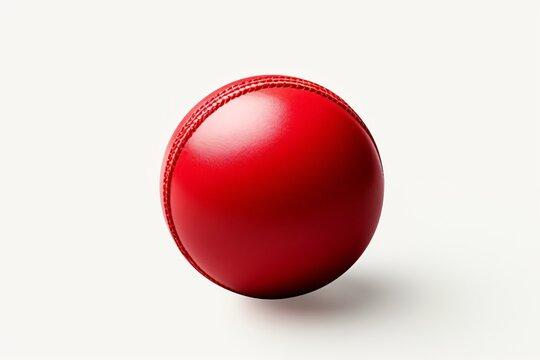Red_Ball: (128, 70, 403, 311)
